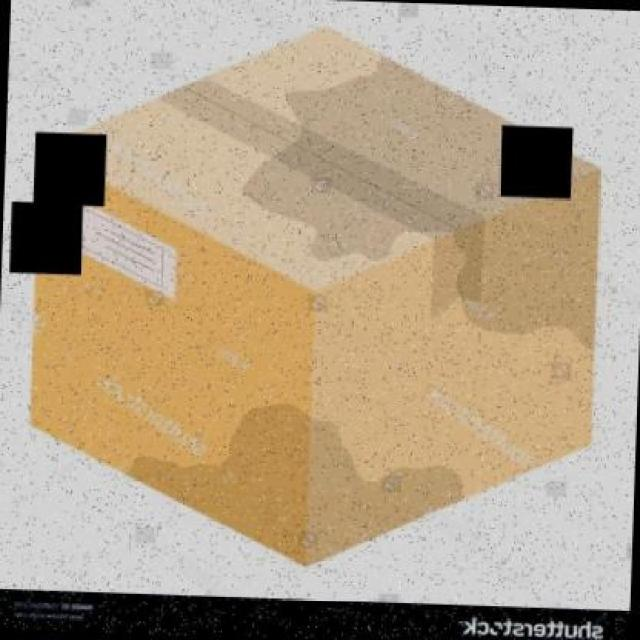box: (18, 14, 613, 577)
